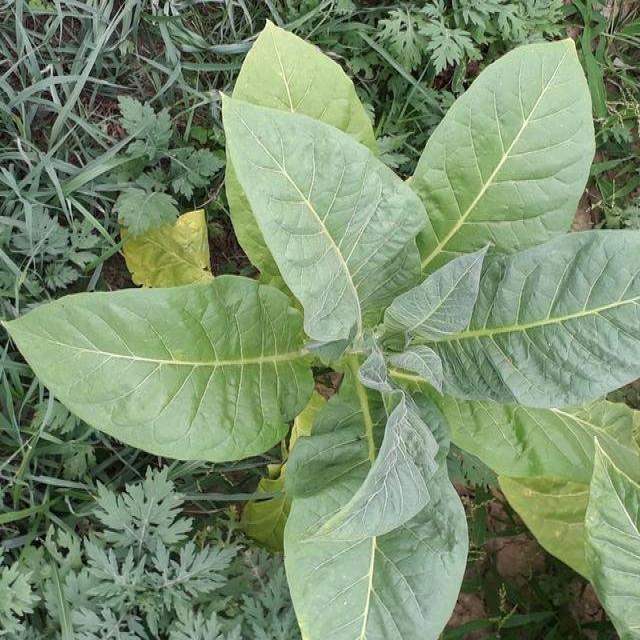crop: (1, 15, 640, 640)
